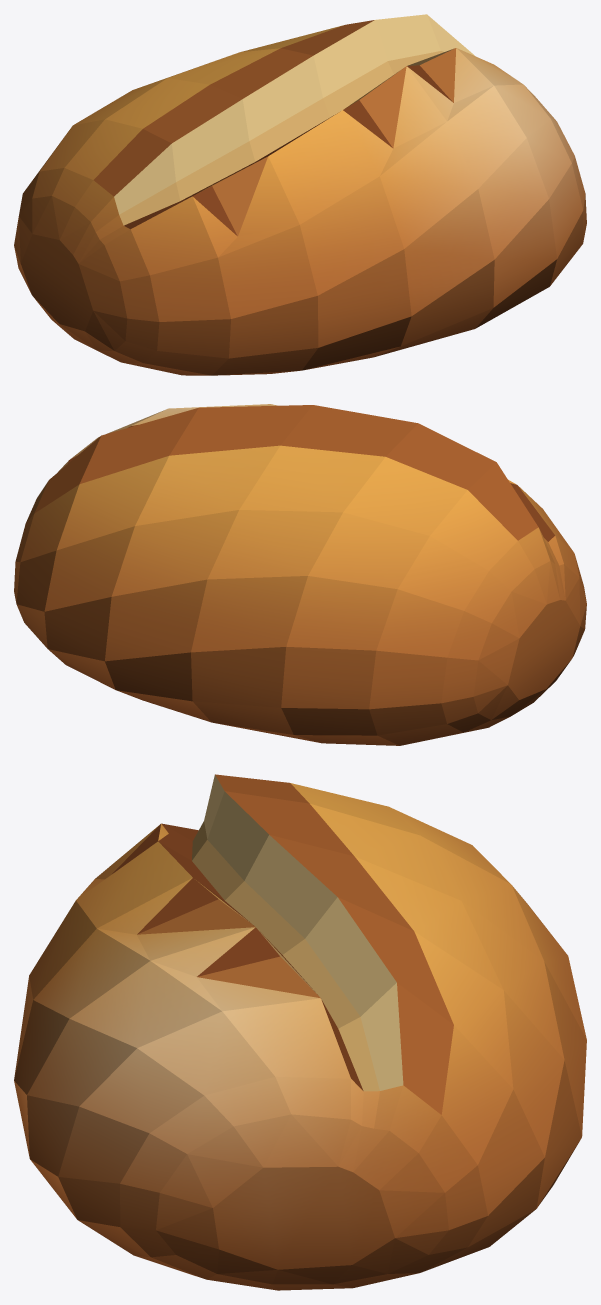
The model's file is FMS_Food_Bread_Loaf.fbx.
The picture shows the model from 3 angles, top to bottom: view 1: azimuth 30°, elevation 25°; view 2: azimuth 150°, elevation 25°; view 3: azimuth 270°, elevation 25°; orthographic projection. The views are drawn at different scales.
Parts seen in each view (by area): view 1: item_food_bread_loaf_v2; view 2: item_food_bread_loaf_v2; view 3: item_food_bread_loaf_v2.
Boxes of the visible parts, x1,y1,x2,y2 form: item_food_bread_loaf_v2: [14, 14, 586, 375]; item_food_bread_loaf_v2: [14, 404, 586, 745]; item_food_bread_loaf_v2: [14, 774, 586, 1290].
Size of the model in its own units: 0.2535 by 0.132 by 0.1985.
Materials: 1 (1 with a texture image).
